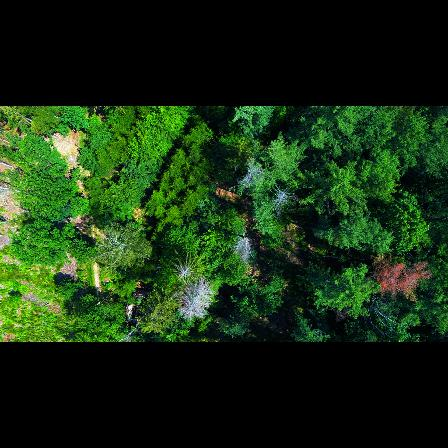Dead: (178, 277, 219, 322), (269, 187, 300, 218), (231, 232, 258, 267)
Sick: (174, 261, 197, 282)
